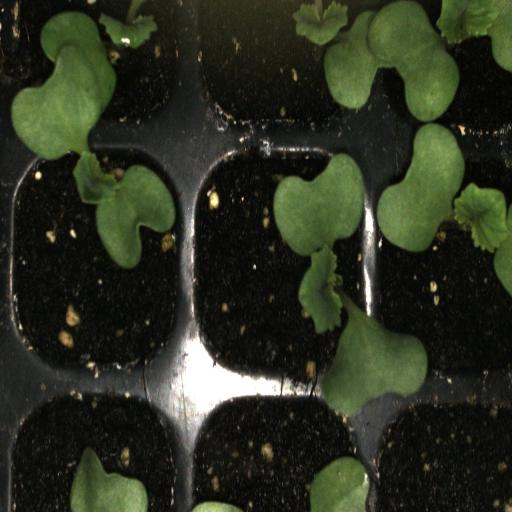seedling: (186, 133, 374, 387), (6, 132, 187, 387), (373, 132, 512, 389), (375, 0, 512, 131)
